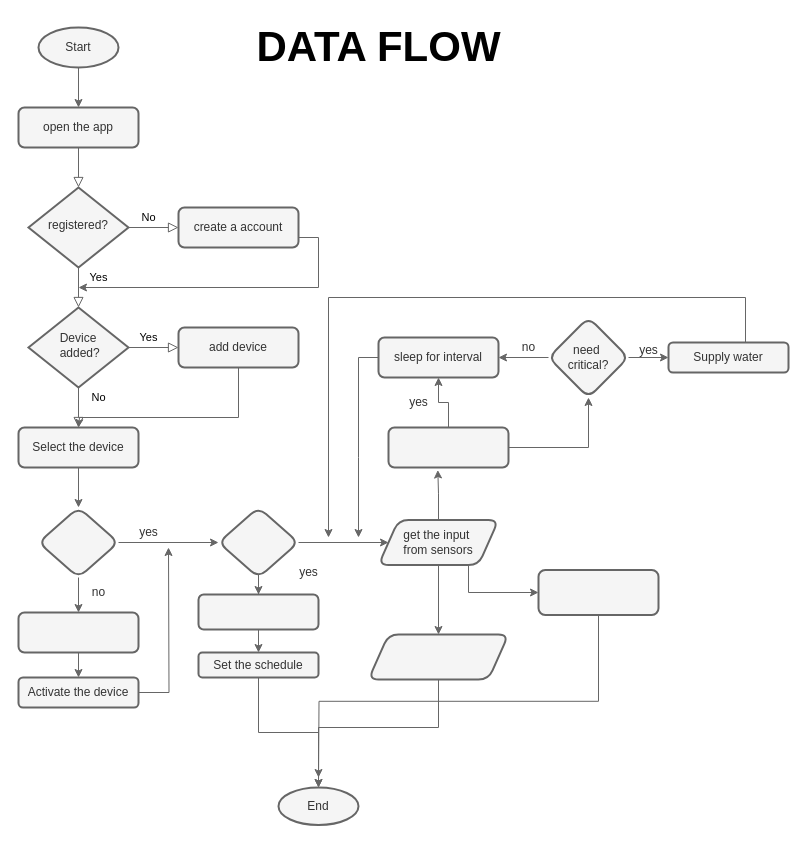
This 806x843 diagram has some shape labels left out. The centre of each missing label's shape, as x and y in pixels:
"Control the fan and lighting" belongs at (x=598, y=592).
"estimate the water, nutrient need" belongs at (x=448, y=447).
"is device setup?" belongs at (x=78, y=542).
"mode is manual?" belongs at (x=258, y=542).
"Set the crop Stage" belongs at (x=78, y=632).
"Set the water flow" belongs at (x=258, y=611).
"Show the status to user" belongs at (x=438, y=656).
